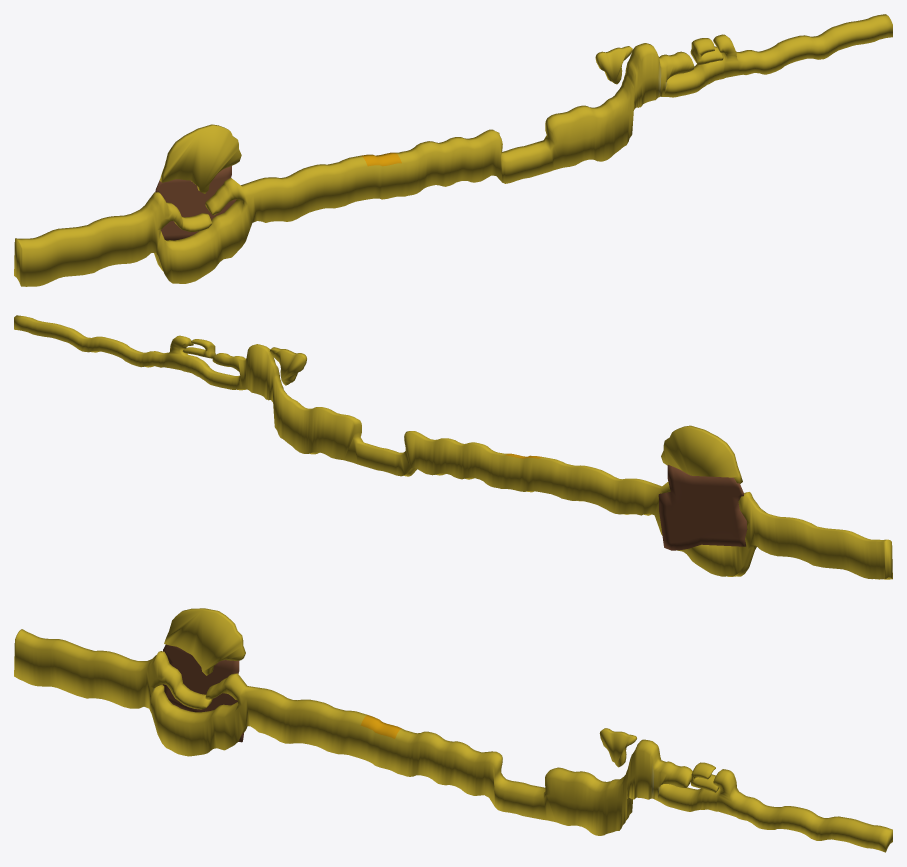
Rendered from Cave Back.fbx.
3 renders of one model, top to bottom at view 1: azimuth 30°, elevation 25°; view 2: azimuth 150°, elevation 25°; view 3: azimuth 330°, elevation 25°, orthographic.
Parts seen in each view (by area): view 1: MapaDesert; view 2: MapaDesert; view 3: MapaDesert.
Part boxes in pixels (box(x1,y1,x2,y2)): MapaDesert: box(14, 14, 892, 286); MapaDesert: box(14, 315, 892, 579); MapaDesert: box(14, 608, 892, 852).
Bounding box in the file's own units: 68671 × 11010 × 1146.
